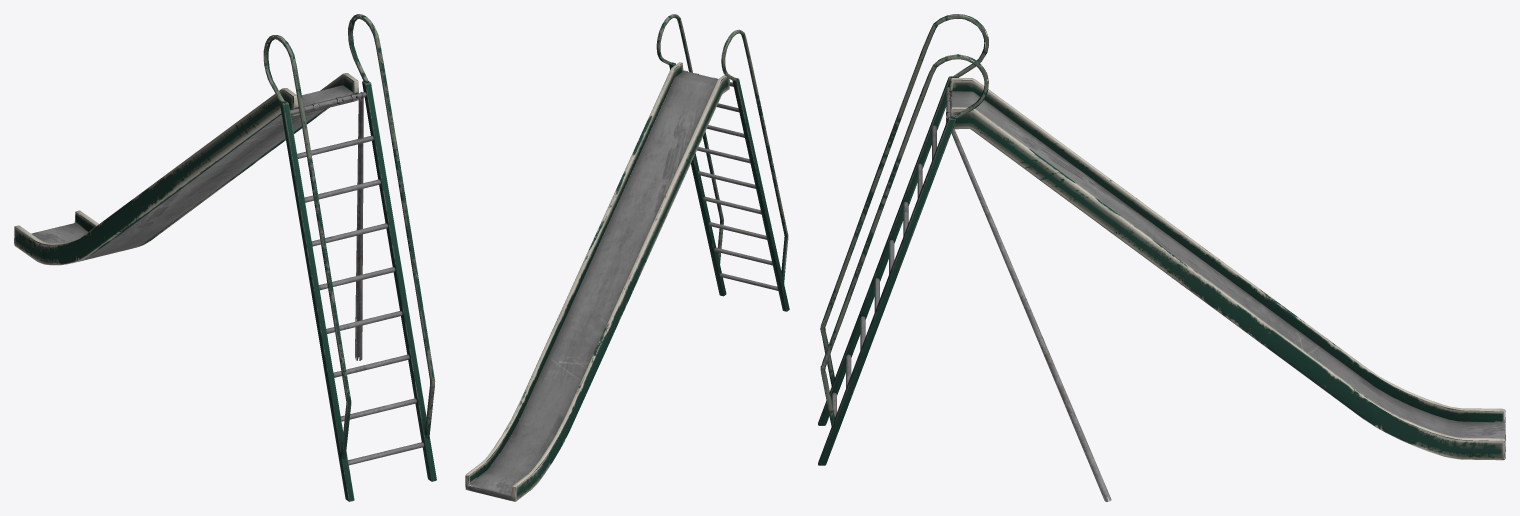
Rendered from old_playground_slide.obj.
3 renders of one model, left to right at view 1: azimuth 30°, elevation 25°; view 2: azimuth 150°, elevation 25°; view 3: azimuth 270°, elevation 25°, orthographic. The views are drawn at different scales.
Size of the model in its own units: 2.54 by 6.34 by 9.58.
1 material, 1 textured.
